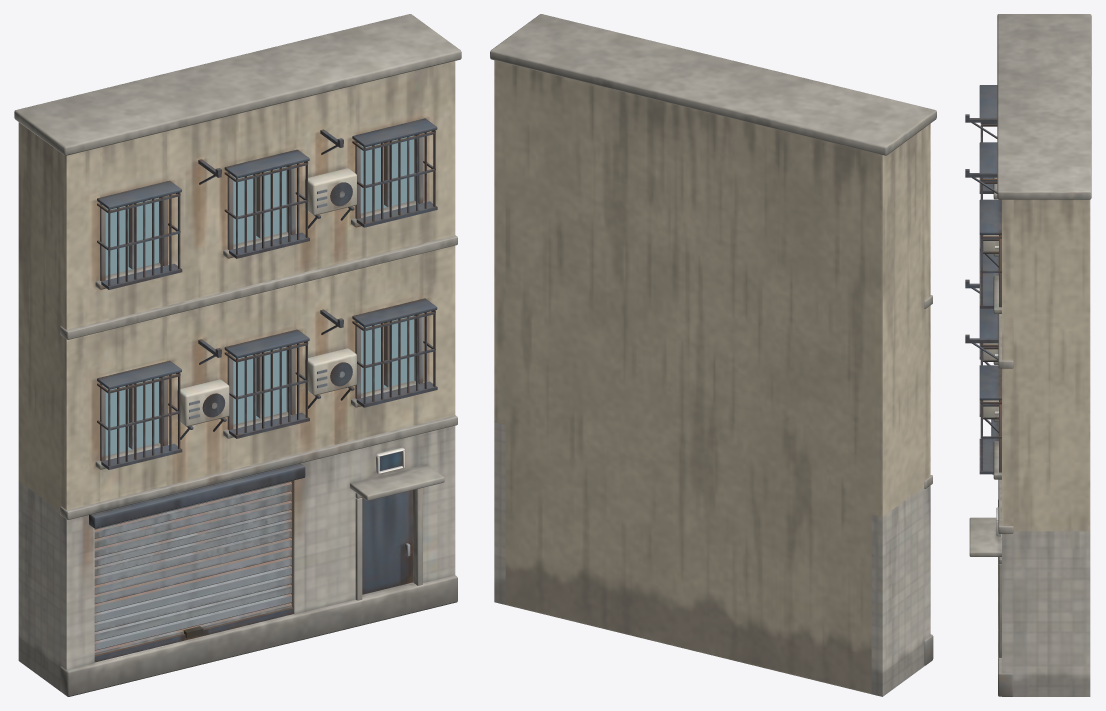
The model's file is rented_room.glb.
3 renders of one model, left to right at view 1: azimuth 30°, elevation 25°; view 2: azimuth 150°, elevation 25°; view 3: azimuth 270°, elevation 25°, orthographic. The views are drawn at different scales.
Visible parts, largest first — view 1: rented_room; view 2: rented_room; view 3: rented_room.
Boxes of the visible parts, x1,y1,x2,y2 form: rented_room: (14,14,461,696); rented_room: (490,14,936,696); rented_room: (965,14,1091,696).
Size of the model in its own units: 7.16 by 9.5 by 2.14.
Materials: 10 (9 with a texture image).
